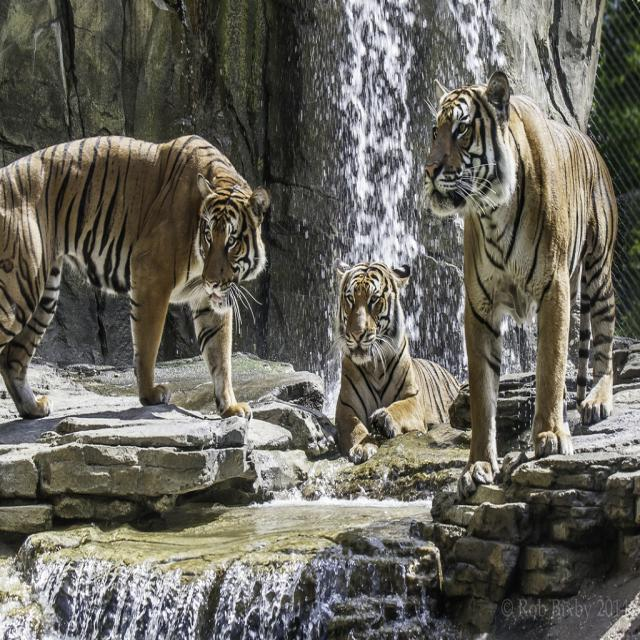Tiger: (423, 71, 621, 482), (0, 128, 266, 420), (334, 262, 459, 457)
